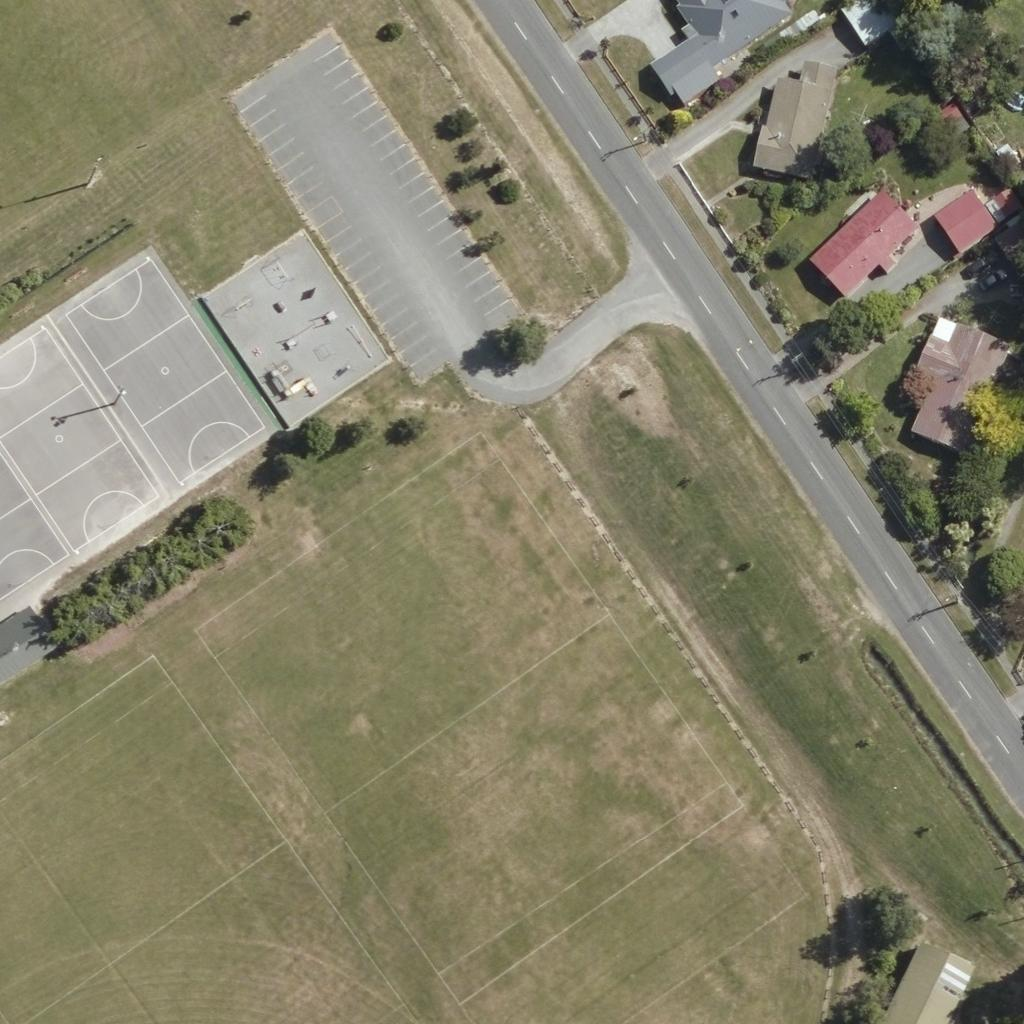car: (963, 244, 997, 278), (975, 261, 1009, 295)
